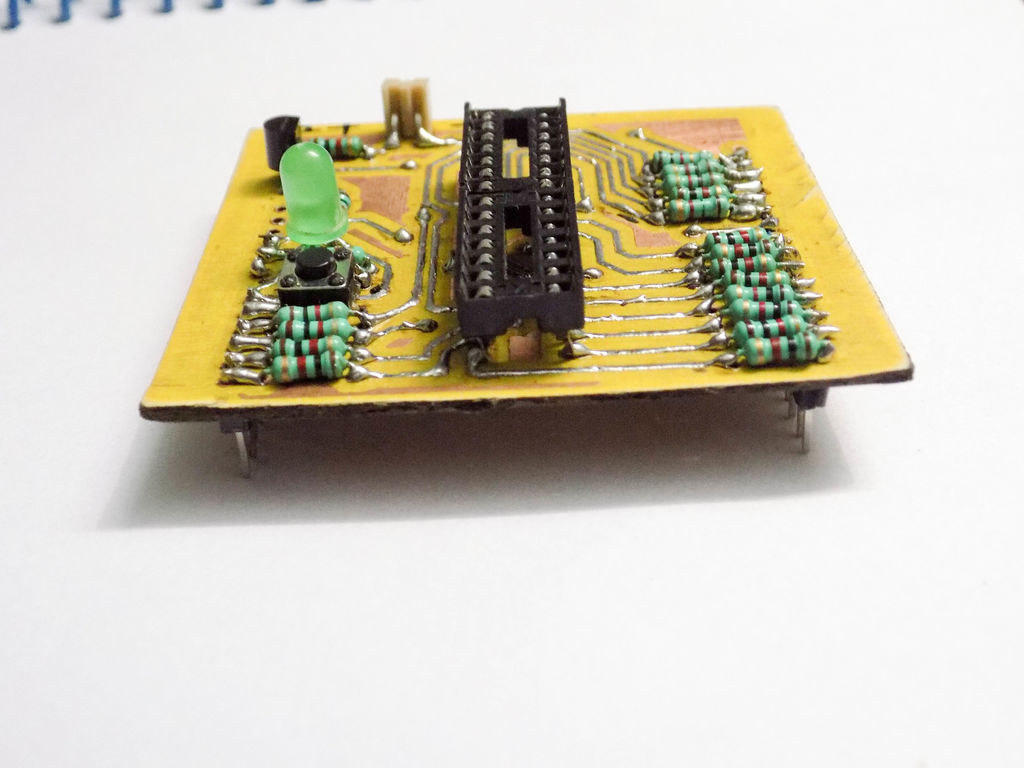resistor: (741, 333, 819, 368), (273, 351, 346, 382), (733, 316, 808, 338), (725, 281, 796, 302), (669, 196, 730, 220), (731, 300, 803, 320), (278, 301, 348, 320), (277, 318, 350, 336), (722, 270, 791, 288), (273, 335, 344, 352), (705, 227, 769, 244), (711, 257, 777, 273), (664, 173, 725, 188), (663, 160, 722, 175), (709, 244, 777, 257), (669, 186, 730, 198), (653, 150, 712, 162)
